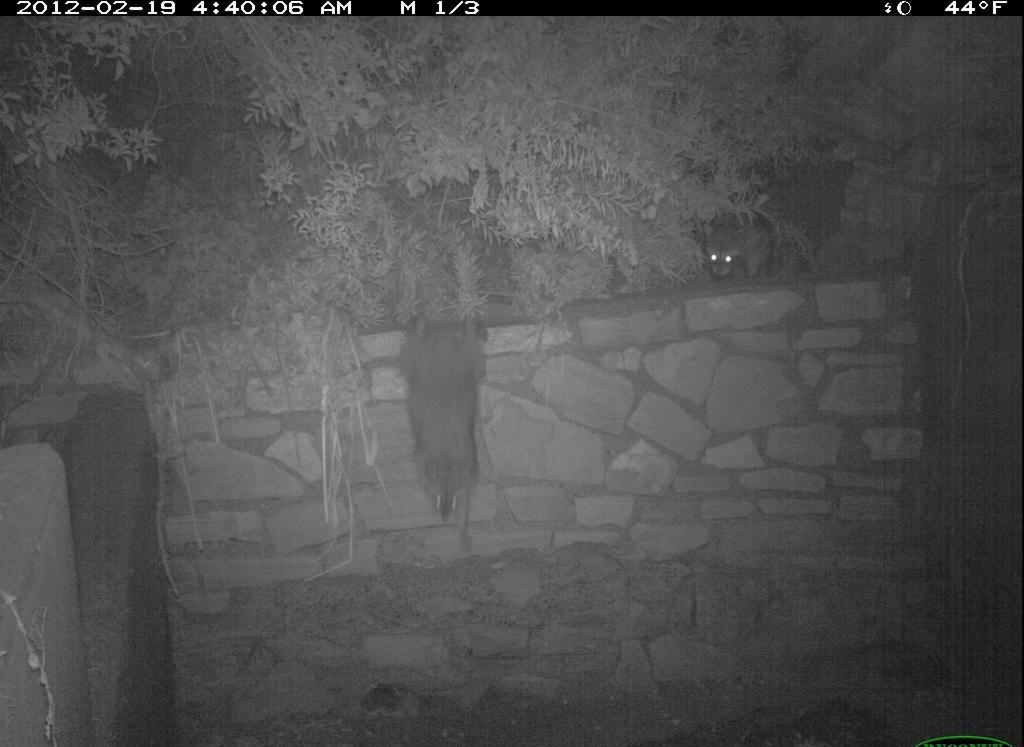raccoon: (392, 303, 498, 561), (701, 212, 783, 286)
